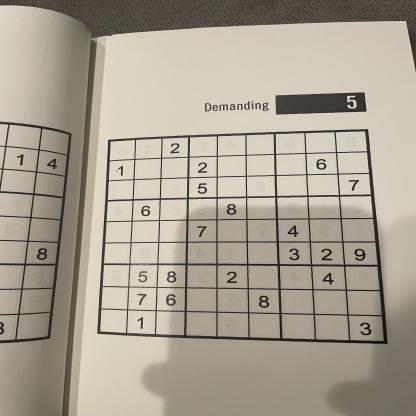sudoku: (93, 126, 390, 346)
